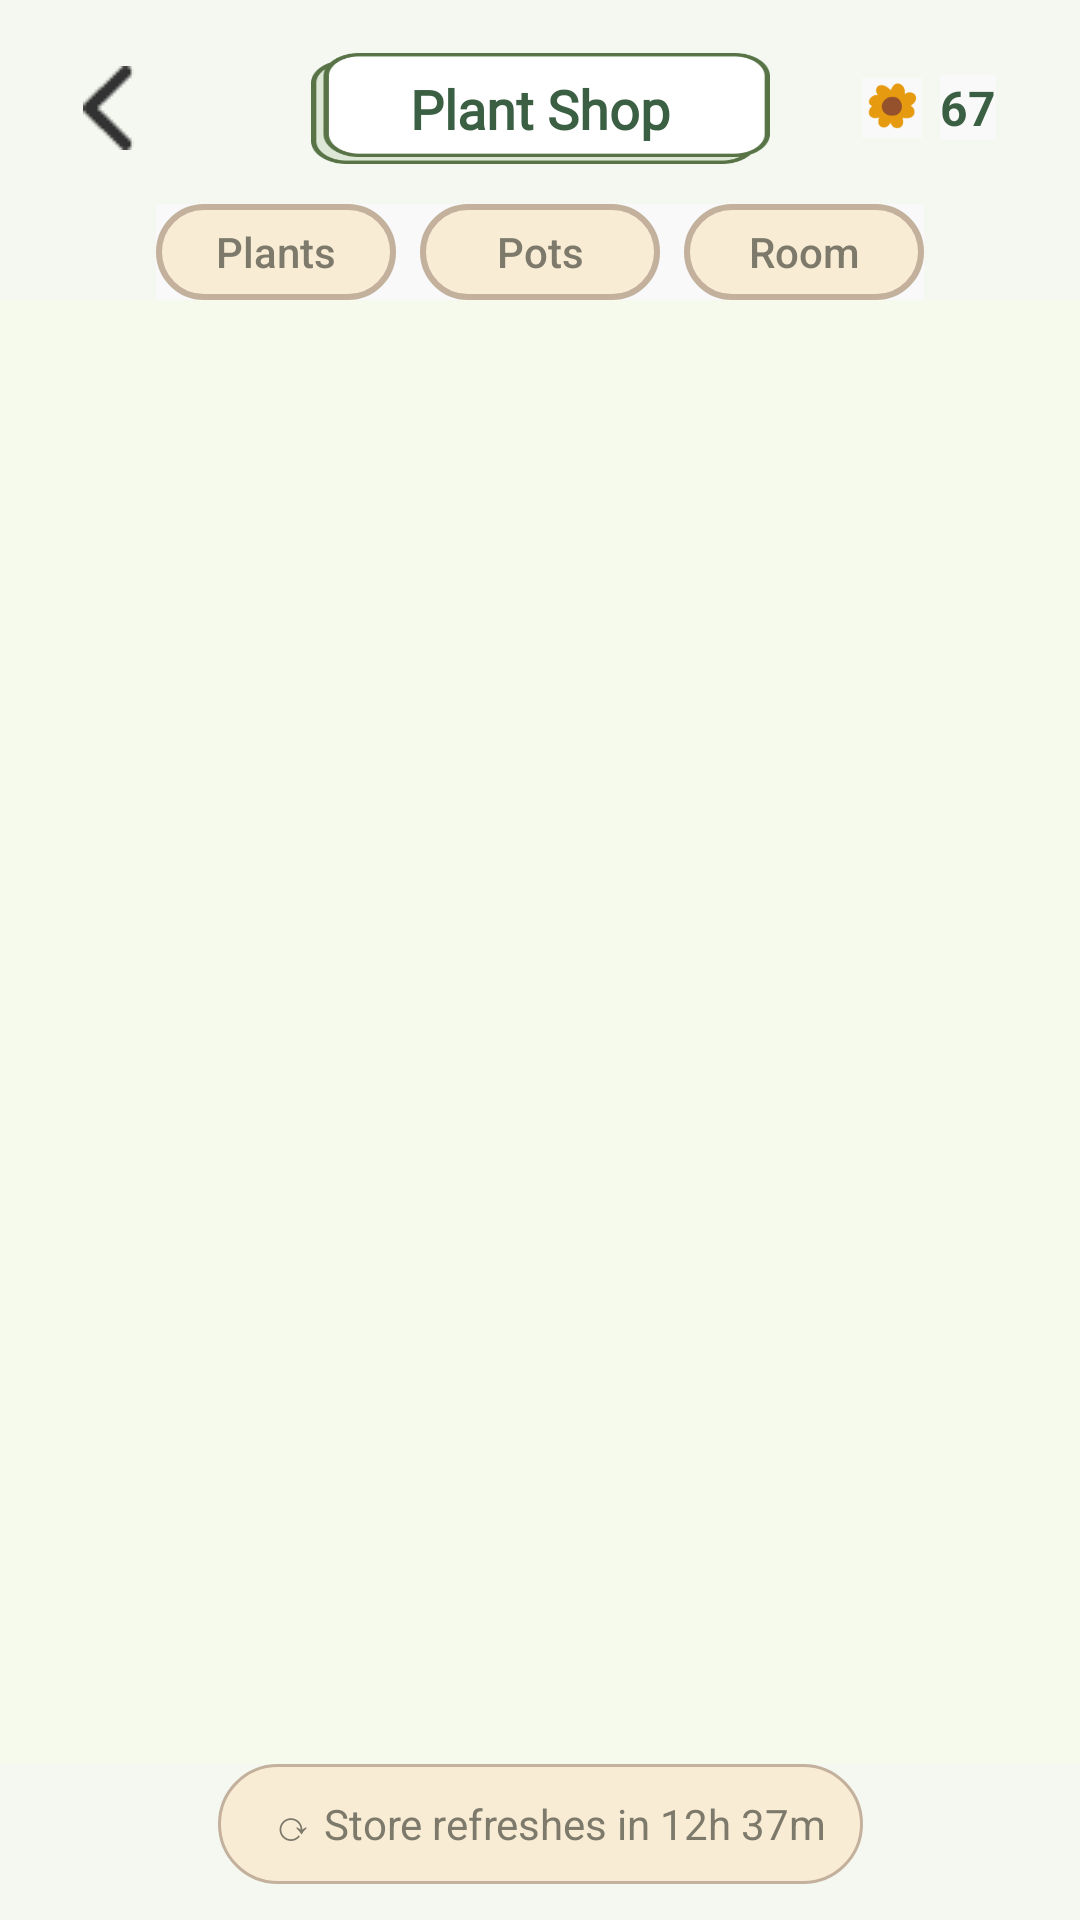

Where to tap for icons on this 1080w x 1920h app screen, as (x=x, y=y):
back: (x=107, y=108)
flower: (x=892, y=106)
